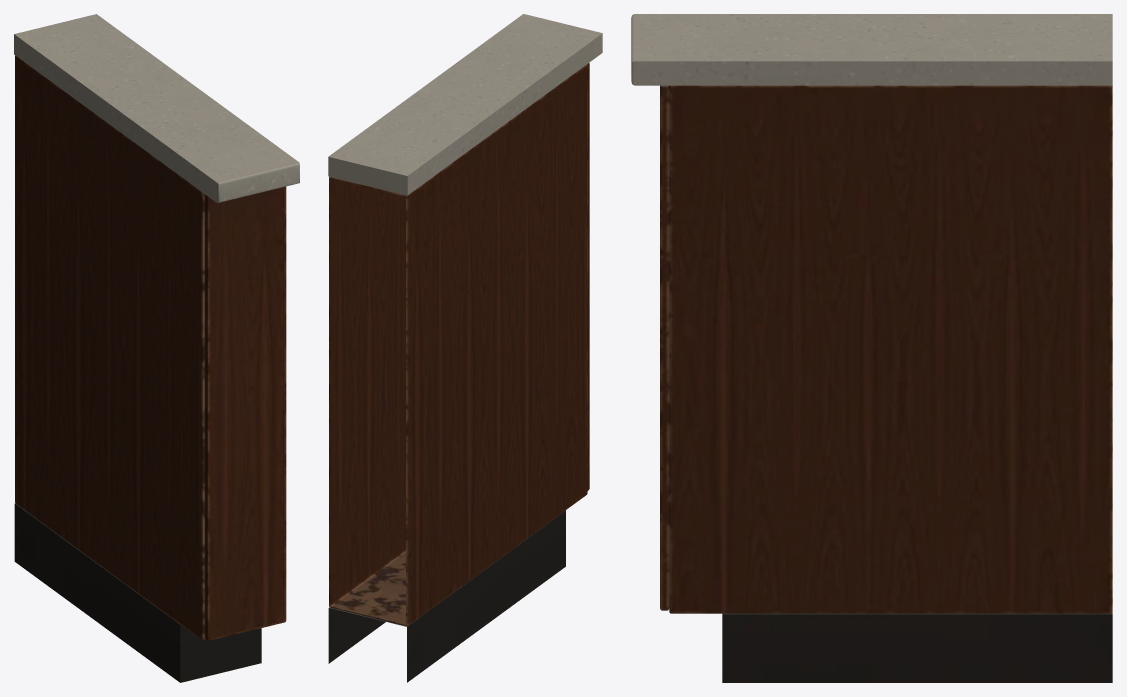
File: kit_base_filler_15-low.glb
The picture shows the model from 3 angles, left to right: view 1: azimuth 30°, elevation 25°; view 2: azimuth 150°, elevation 25°; view 3: azimuth 270°, elevation 25°; orthographic projection. The views are drawn at different scales.
Parts seen in each view (by area): view 1: kit_base_filler_15-low; view 2: kit_base_filler_15-low; view 3: kit_base_filler_15-low.
Boxes of the visible parts, x1,y1,x2,y2 form: kit_base_filler_15-low: (14,14,299,682); kit_base_filler_15-low: (328,14,602,682); kit_base_filler_15-low: (631,14,1112,682).
Size of the model in its own units: 0.148 by 0.905 by 0.635.
1 material, 1 textured.
